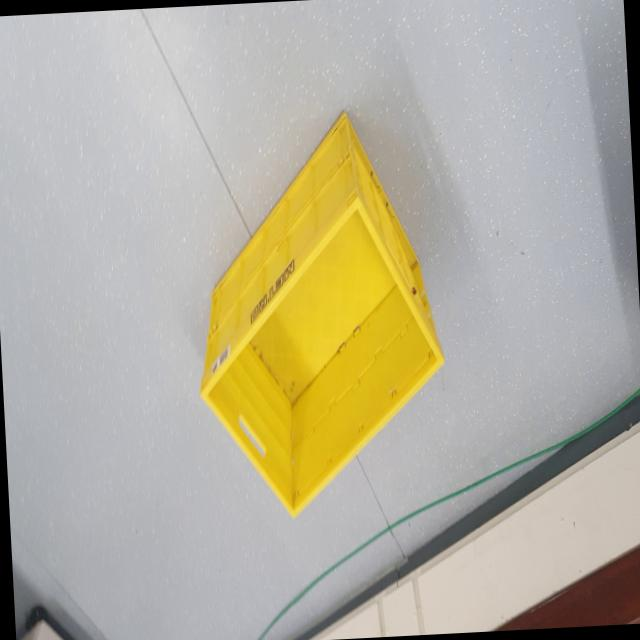box: (182, 102, 456, 533)
